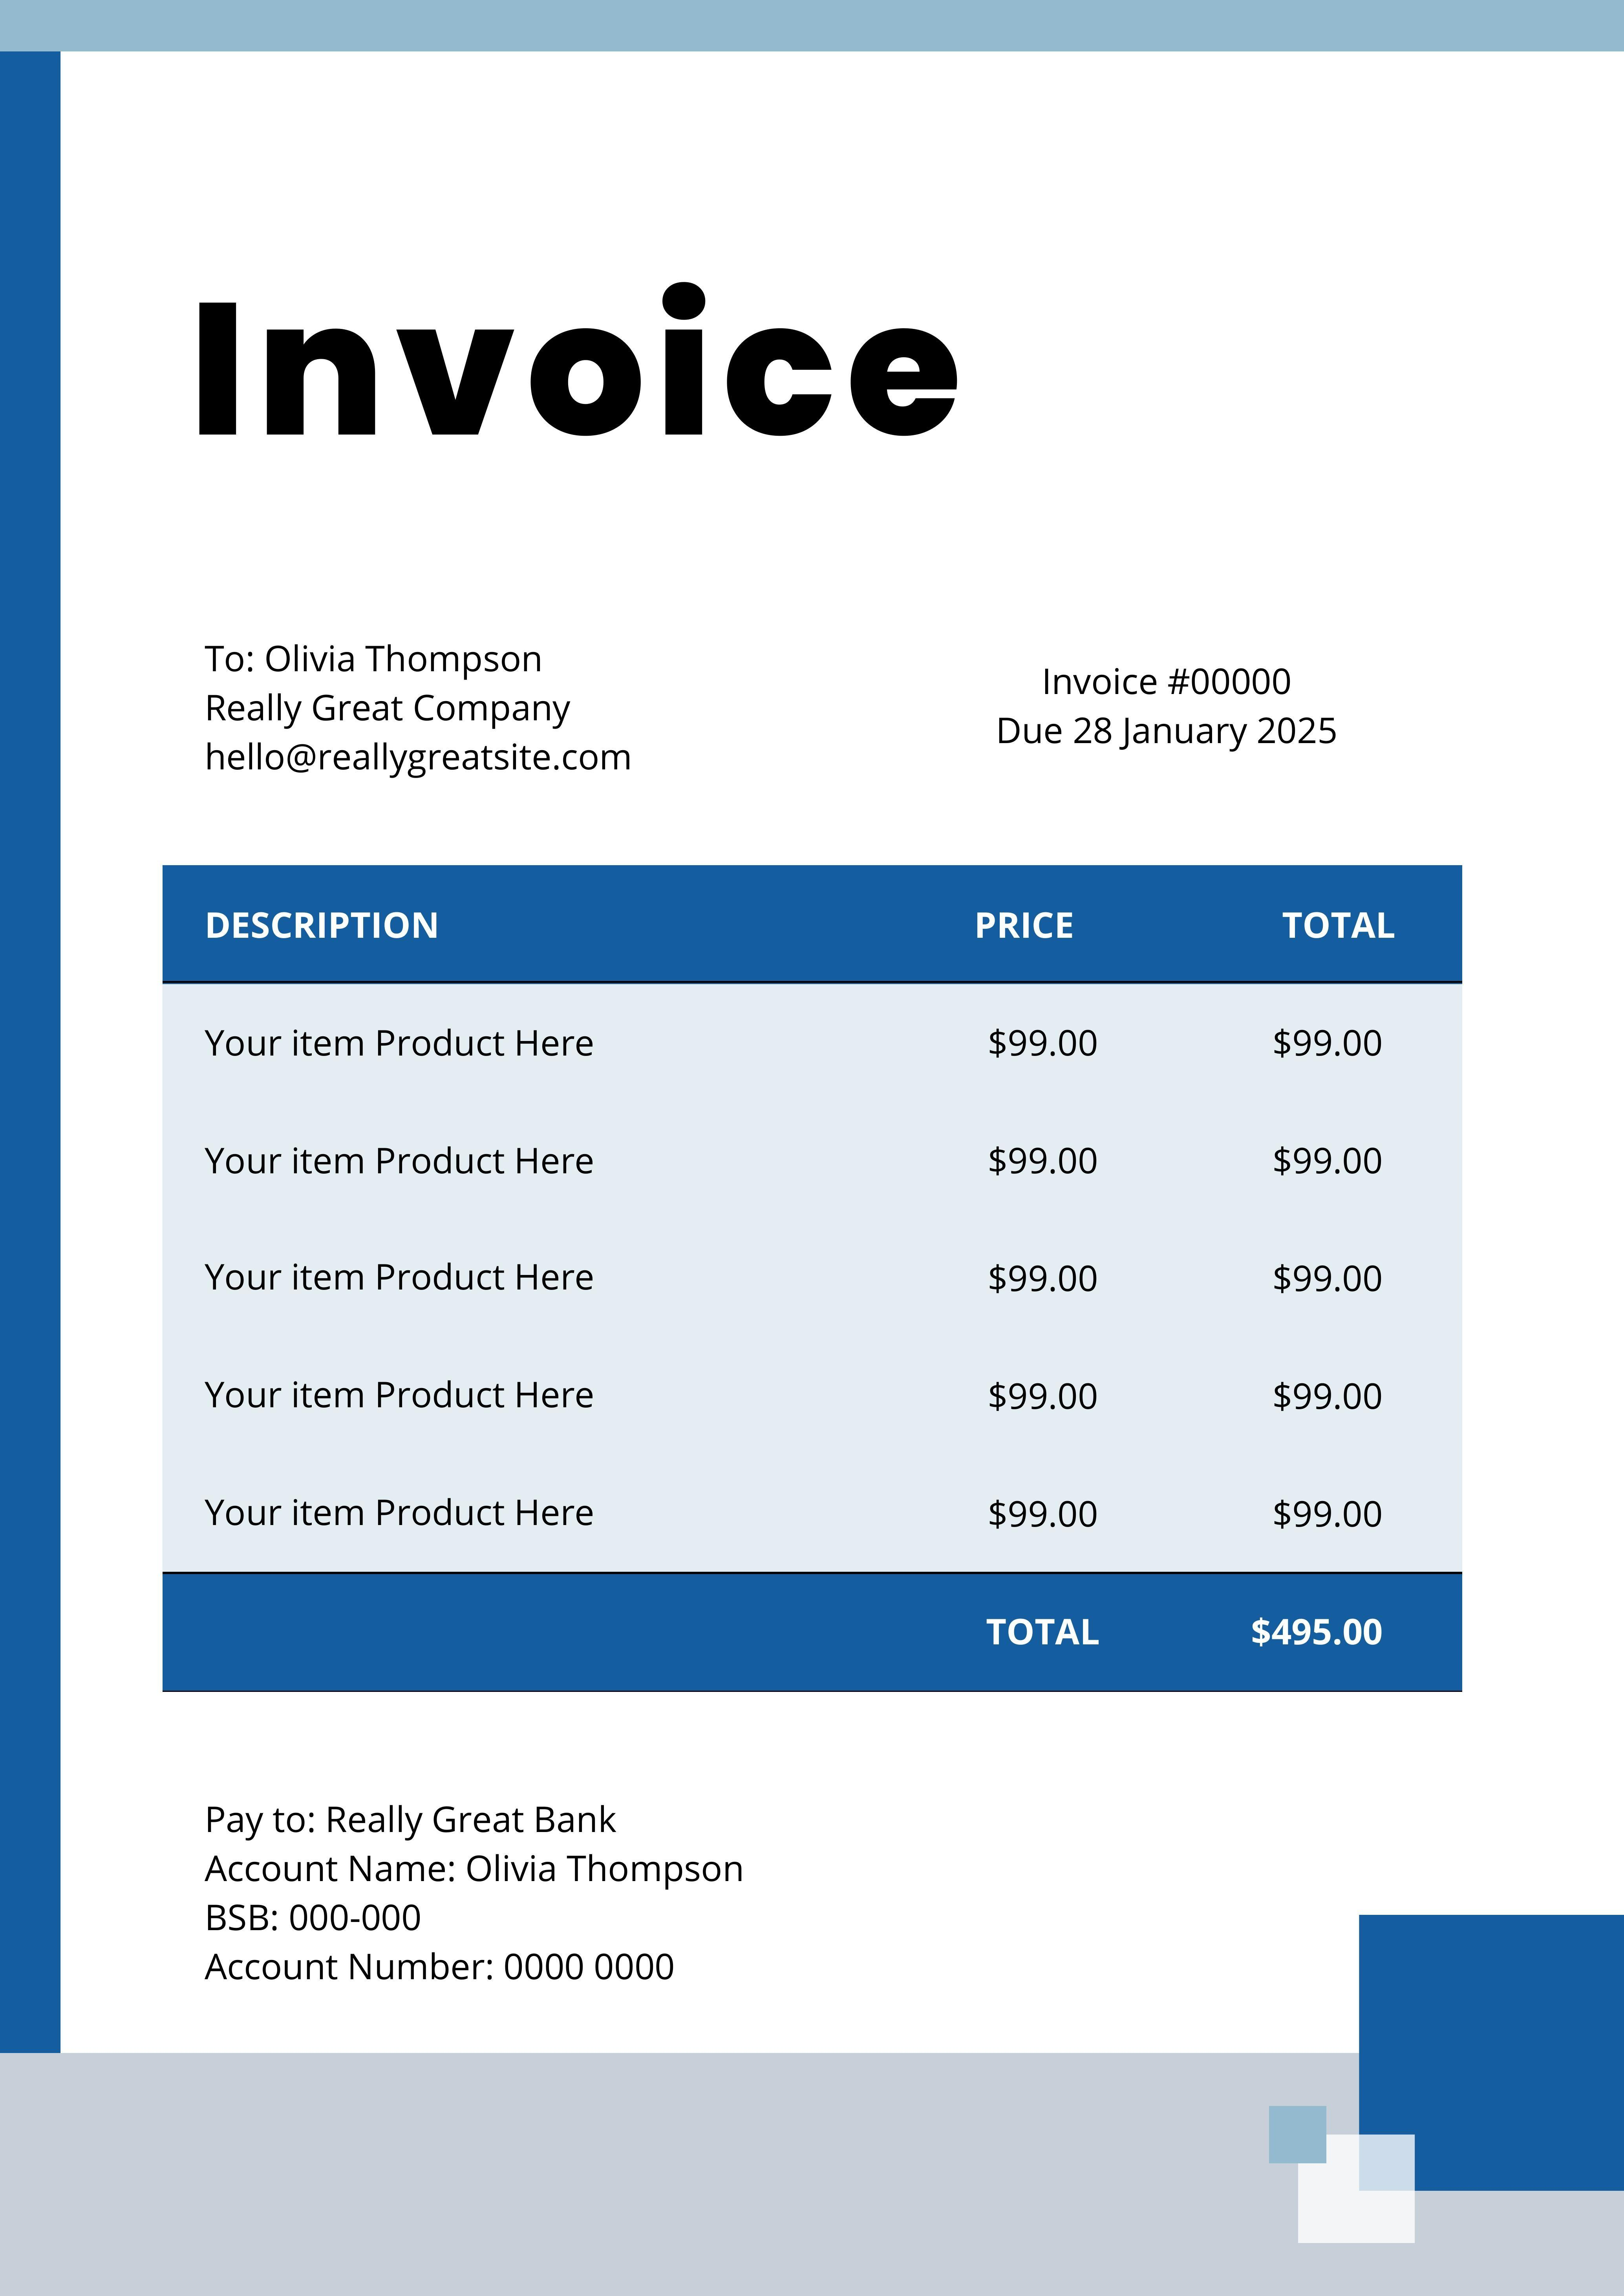ROI: (185, 889, 1406, 1541), (188, 1801, 791, 1992), (202, 636, 643, 782), (986, 636, 1383, 755), (970, 1599, 1392, 1665)
